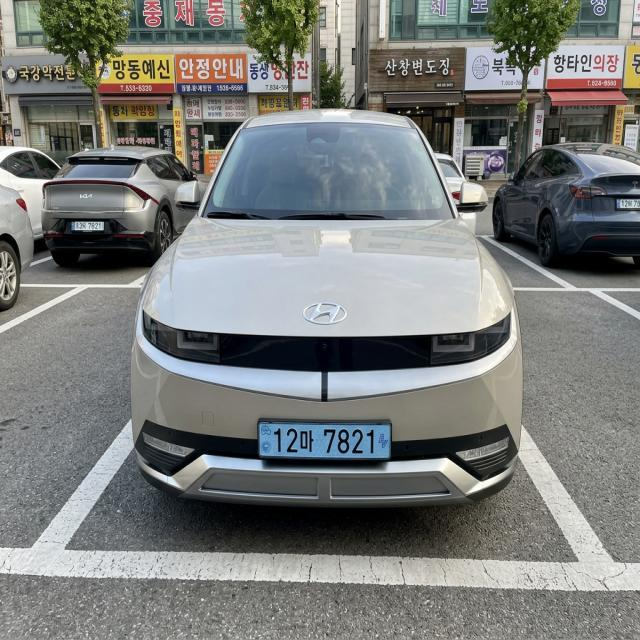car: (228, 399, 419, 482)
carev: (255, 409, 273, 465), (377, 411, 395, 466)
